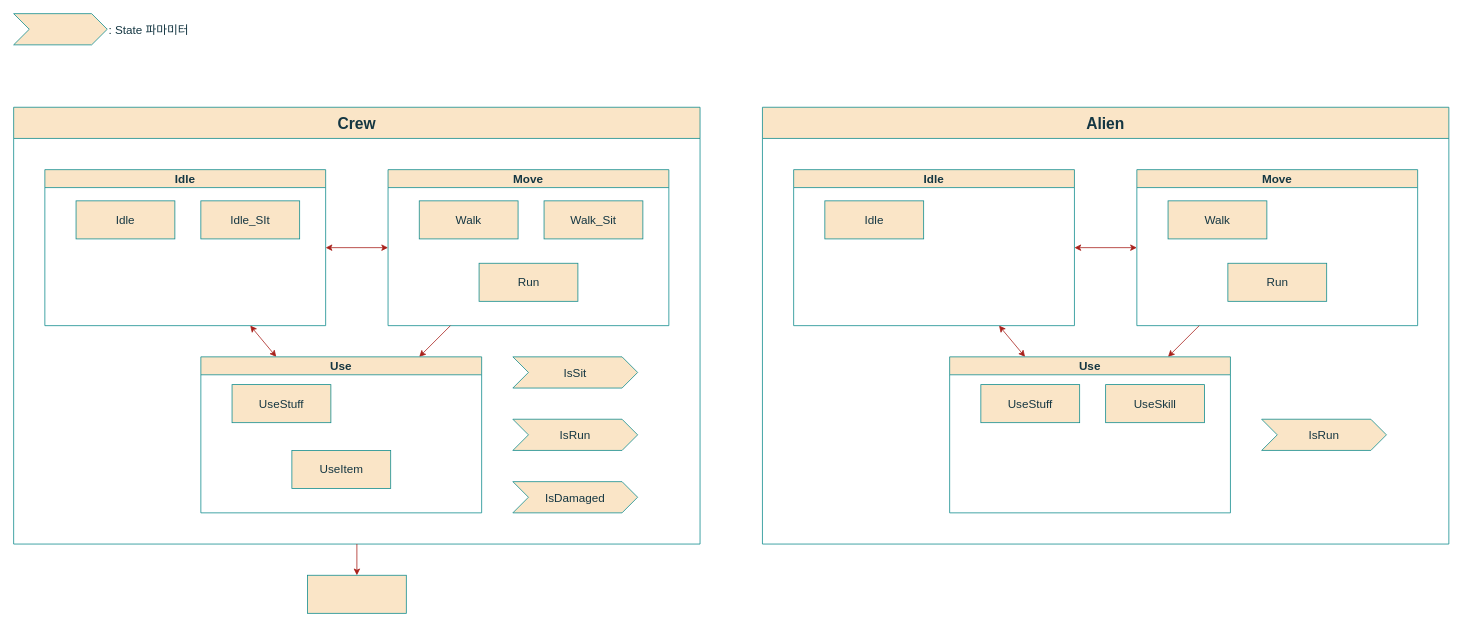
This 1463x627 diagram has some shape labels left out. Each missing label, with the centre of its shape:
"Dead" goes at [356,593].
"Temp" goes at [60,29].
